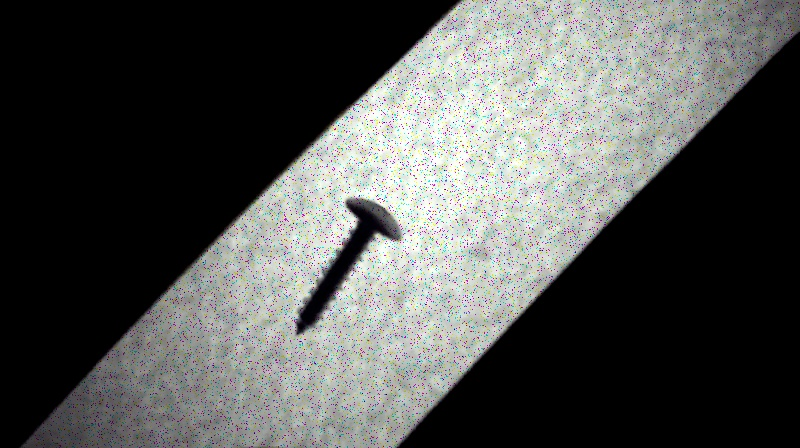S003: (291, 194, 405, 338)
